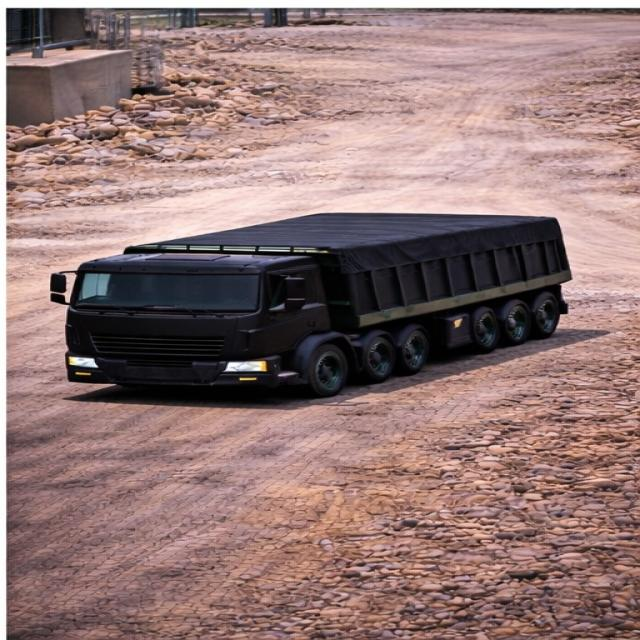trailer: (125, 208, 556, 252)
truck: (48, 193, 588, 409)
